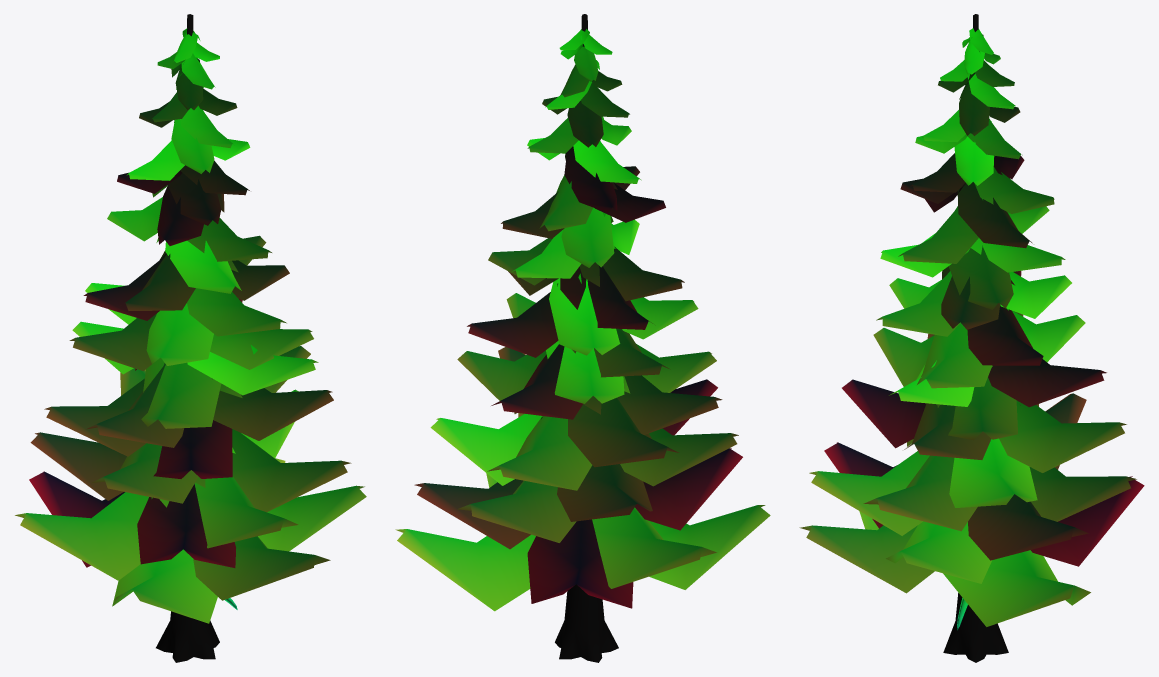
Rendered from M_Pine_6_8.fbx.
The picture shows the model from 3 angles, left to right: view 1: azimuth 30°, elevation 25°; view 2: azimuth 150°, elevation 25°; view 3: azimuth 270°, elevation 25°; orthographic projection.
Parts seen in each view (by area): view 1: Tree_8; view 2: Tree_8; view 3: Tree_8.
Part boxes in pixels (box(x1,y1,x2,y2)): Tree_8: box(15, 14, 366, 662); Tree_8: box(395, 14, 770, 662); Tree_8: box(799, 14, 1144, 662).
Size of the model in its own units: 1030 by 2130 by 1051.
